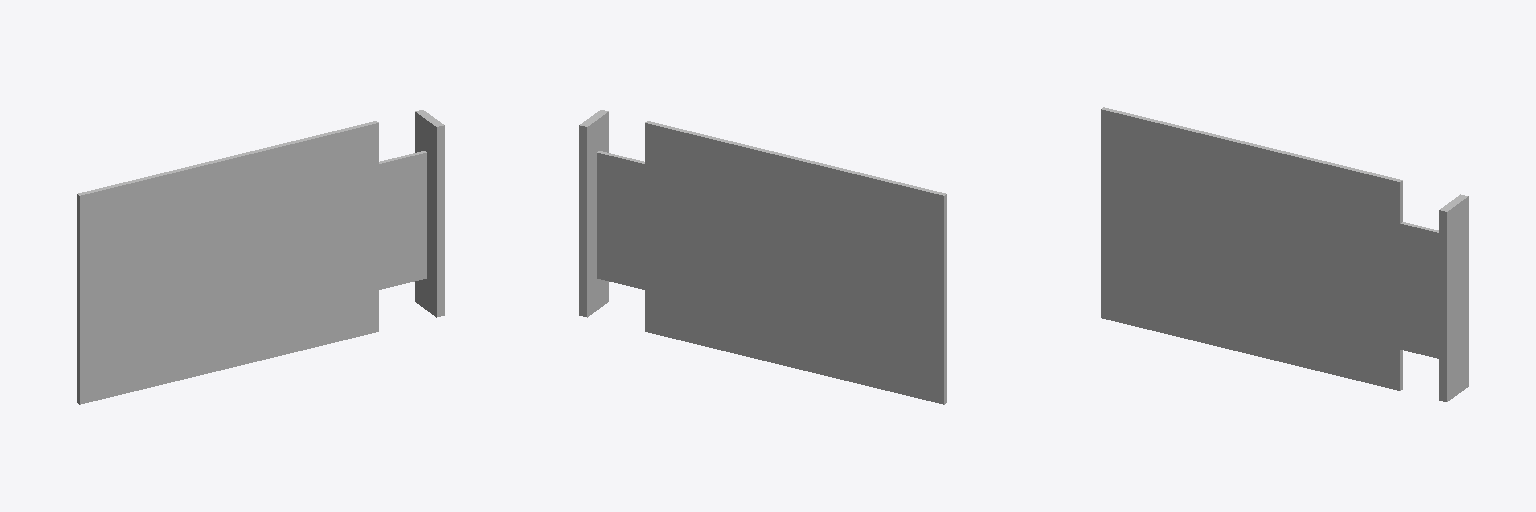
Rendered from Sign.obj.
3 renders of one model, left to right at view 1: azimuth 30°, elevation 25°; view 2: azimuth 150°, elevation 25°; view 3: azimuth 330°, elevation 25°, orthographic.
Visible parts, largest first — view 1: Box010; view 2: Box010; view 3: Box010.
Boxes of the visible parts, box(x1,y1,x2,y2) form: Box010: box(77, 110, 444, 404); Box010: box(579, 110, 946, 404); Box010: box(1101, 107, 1468, 401).
Bounding box in the file's own units: 51.59 × 28.96 × 5.41.